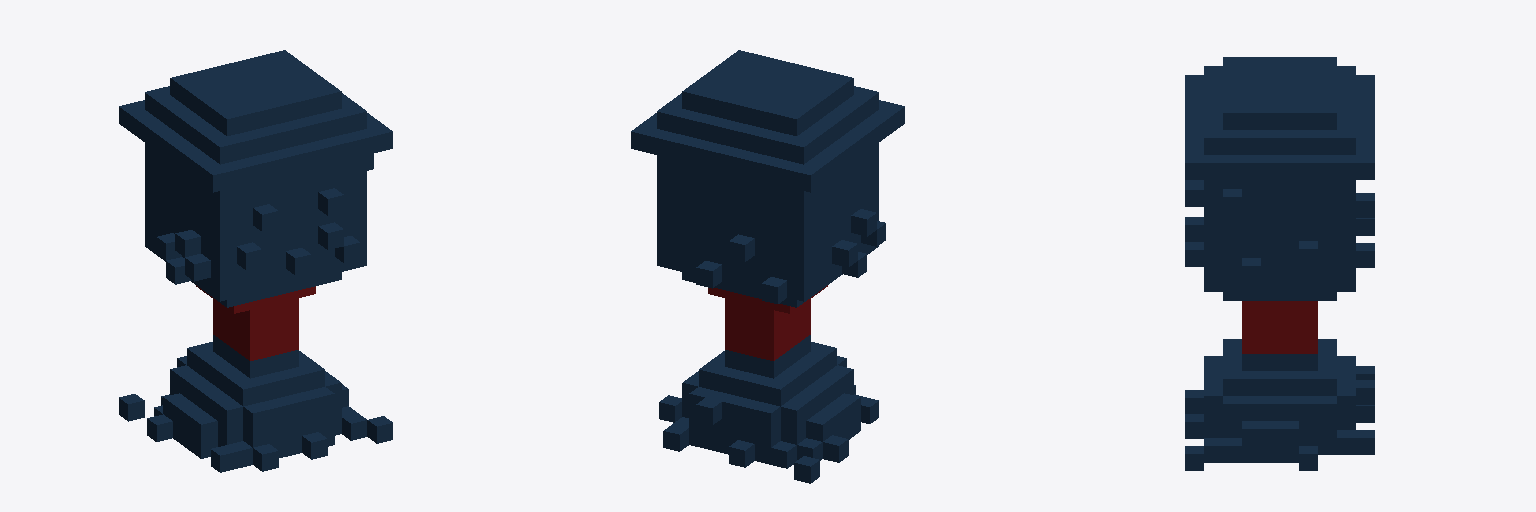
3 renders of one model, left to right at view 1: azimuth 30°, elevation 25°; view 2: azimuth 150°, elevation 25°; view 3: azimuth 270°, elevation 25°, orthographic.
Visible parts, largest first — view 1: object 1; view 2: object 1; view 3: object 1.
Part boxes in pixels (left/top/right/bottom): object 1: left=119, top=50, right=392, bottom=472; object 1: left=631, top=50, right=904, bottom=483; object 1: left=1185, top=57, right=1374, bottom=470.
Bounding box in the file's own units: 1.1 × 2 × 1.
1 materials, 1 textured.